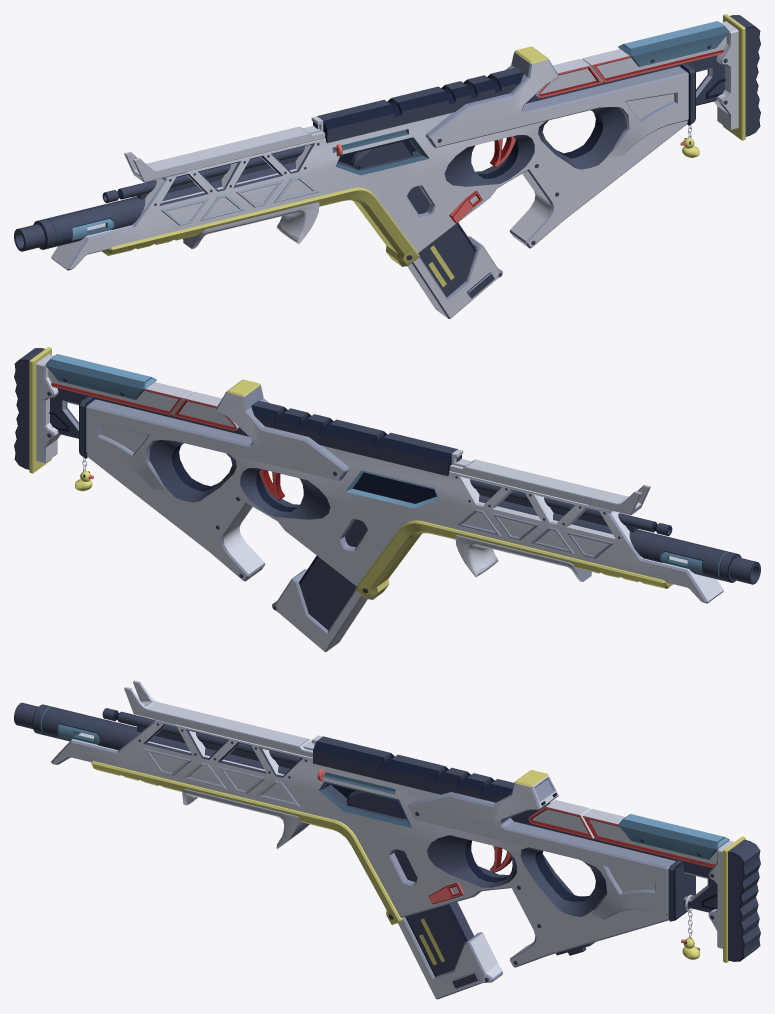
The model's file is hw_xyz_school_detailing_duck_sci-fi_gun.glb.
3 renders of one model, top to bottom at view 1: azimuth 30°, elevation 25°; view 2: azimuth 150°, elevation 25°; view 3: azimuth 330°, elevation 25°, orthographic.
Visible parts, largest first — view 1: polySurface27, polySurface14, pCube4, polySurface32, polySurface19, pCylinder1, polySurface6, pCube14, pCube5, polySurface20, polySurface33, pCube19 (+7 smaller); view 2: polySurface27, polySurface14, pCube4, polySurface32, pCylinder1, polySurface6, pCube14, polySurface19, polySurface20, pCube5, polySurface33, pCube19 (+8 smaller); view 3: polySurface27, polySurface14, pCube4, polySurface19, polySurface6, polySurface23, pCylinder1, pCube14, polySurface32, polySurface20, pCube5, pCube16 (+6 smaller).
Boxes of the visible parts, x1,y1,x2,y2 form: polySurface27: (51, 93, 687, 270); polySurface14: (425, 46, 688, 157); pCube4: (313, 67, 523, 143); polySurface32: (102, 187, 419, 266); polySurface19: (350, 141, 475, 297); pCylinder1: (33, 162, 295, 249); polySurface6: (124, 125, 325, 182); pCube14: (535, 36, 726, 97); pCube5: (618, 21, 729, 66); polySurface20: (407, 236, 502, 318); polySurface33: (183, 202, 319, 248); pCube19: (714, 21, 738, 130); polySurface27: (87, 426, 723, 603); polySurface14: (86, 379, 349, 490); pCube4: (251, 400, 461, 476); polySurface32: (355, 520, 672, 599); pCylinder1: (479, 495, 741, 582); polySurface6: (449, 458, 650, 515); pCube14: (48, 369, 239, 430); polySurface19: (299, 519, 367, 630); polySurface20: (272, 569, 367, 651); pCube5: (45, 354, 156, 399); polySurface33: (455, 535, 591, 581); pCube19: (36, 354, 60, 463); polySurface27: (51, 719, 668, 967); polySurface14: (408, 770, 675, 919); pCube4: (313, 736, 513, 802); polySurface19: (346, 790, 473, 976); polySurface6: (124, 680, 312, 757); polySurface23: (728, 839, 760, 961); pCylinder1: (32, 704, 289, 774); pCube14: (528, 800, 727, 867); polySurface32: (91, 761, 403, 924); polySurface20: (398, 917, 502, 999); pCube5: (618, 814, 729, 859); pCube16: (510, 803, 717, 912).
Bounding box in the file's own units: 0.2483 × 0.0773 × 0.0139.
